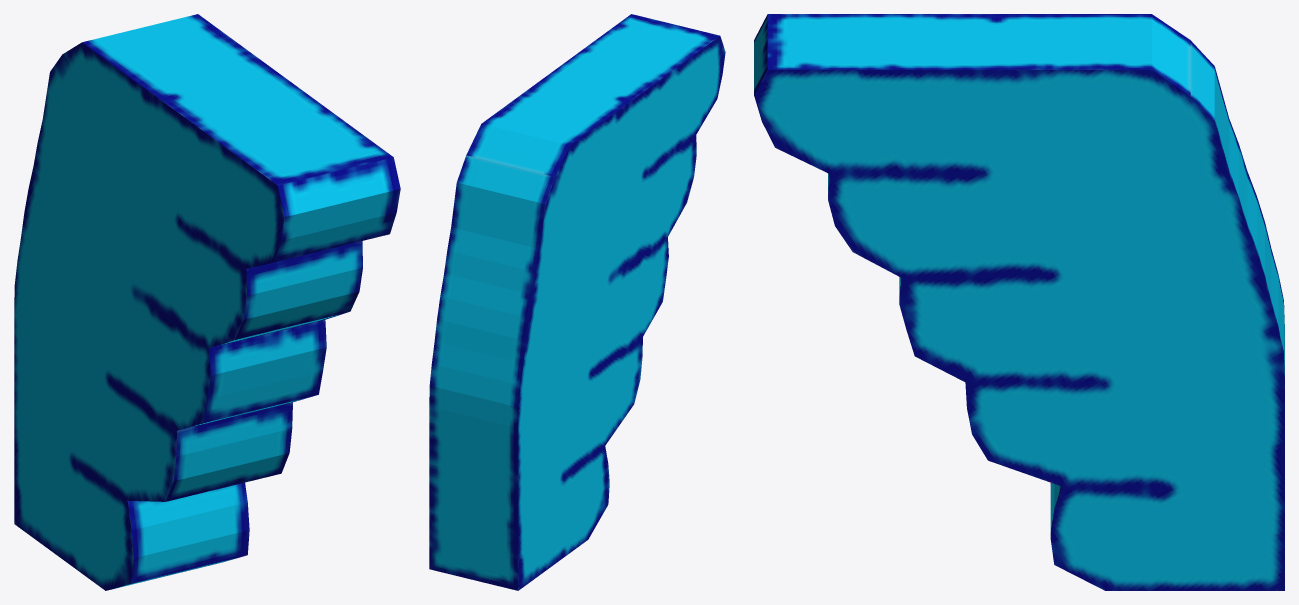
The model's file is powerup_ala.obj.
The picture shows the model from 3 angles, left to right: view 1: azimuth 30°, elevation 25°; view 2: azimuth 150°, elevation 25°; view 3: azimuth 270°, elevation 25°; orthographic projection. The views are drawn at different scales.
Parts seen in each view (by area): view 1: powerup_+_ala; view 2: powerup_+_ala; view 3: powerup_+_ala.
Part boxes in pixels (x1,y1,x2,y2): powerup_+_ala: (14, 14, 400, 590); powerup_+_ala: (429, 14, 725, 590); powerup_+_ala: (754, 14, 1284, 590).
Size of the model in its own units: 0.155 by 0.6785 by 0.626.
